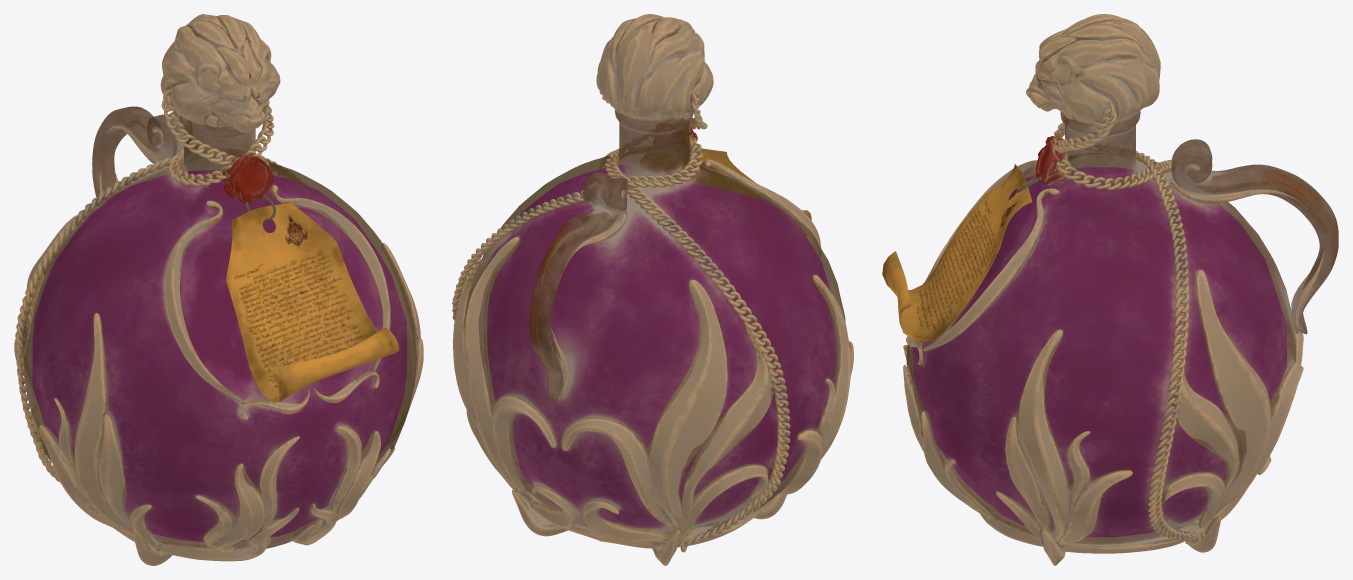
The model's file is magical_potion_mk2.glb.
3 views of the same model, side by side, from view 1: azimuth 30°, elevation 25°; view 2: azimuth 150°, elevation 25°; view 3: azimuth 270°, elevation 25° (orthographic). The views are drawn at different scales.
Visible parts, largest first — view 1: defaultMaterial; view 2: defaultMaterial; view 3: defaultMaterial.
Part boxes in pixels (x1,y1,x2,y2): defaultMaterial: (14, 14, 423, 565); defaultMaterial: (452, 14, 853, 565); defaultMaterial: (882, 14, 1338, 565).
Bounding box in the file's own units: 1.41 × 1.99 × 1.64.
Materials: 1 (1 with a texture image).
